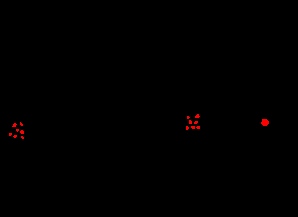Target: (261, 119, 269, 126), (195, 114, 200, 118), (12, 123, 17, 127), (20, 130, 24, 134), (189, 120, 192, 124), (194, 121, 198, 124), (20, 122, 23, 126), (186, 126, 189, 130), (191, 126, 195, 129), (196, 126, 200, 129), (13, 135, 17, 138), (187, 116, 190, 119), (16, 129, 19, 132), (9, 133, 12, 136), (21, 136, 24, 139)
